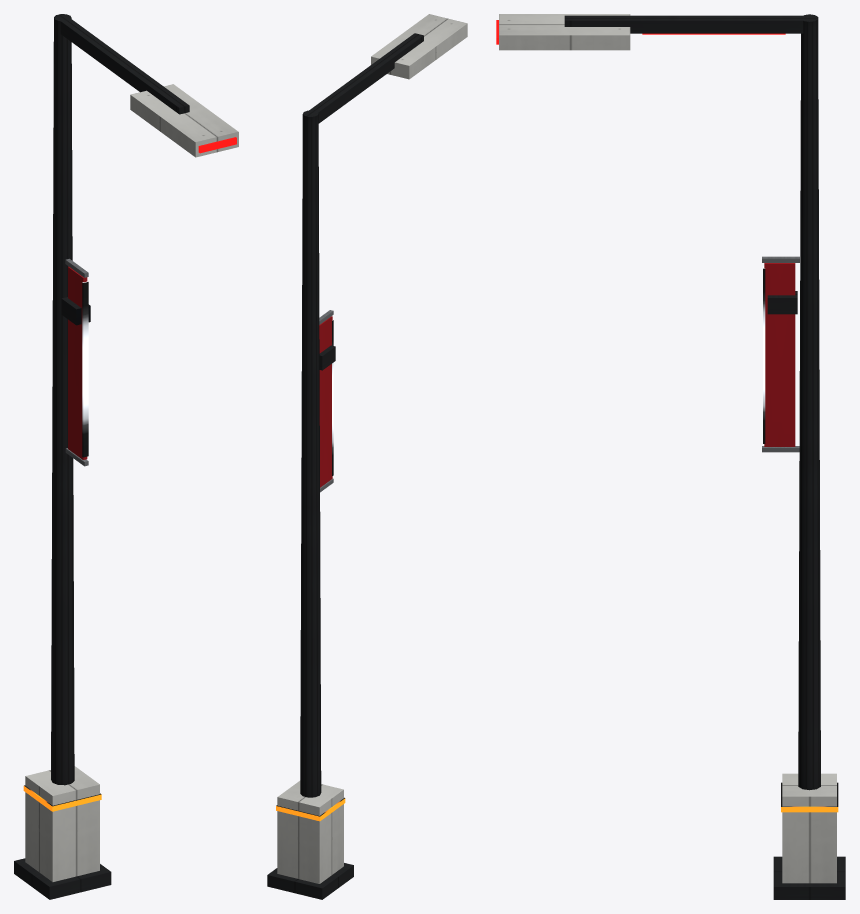
Rendered from SM_INFD_StreetLamp.fbx.
The picture shows the model from 3 angles, left to right: view 1: azimuth 30°, elevation 25°; view 2: azimuth 150°, elevation 25°; view 3: azimuth 270°, elevation 25°; orthographic projection. The views are drawn at different scales.
Parts seen in each view (by area): view 1: SM_INFD_StreetLamp_LOD0; view 2: SM_INFD_StreetLamp_LOD0; view 3: SM_INFD_StreetLamp_LOD0.
Part boxes in pixels (<box>): SM_INFD_StreetLamp_LOD0: <box>14,14,238,899</box>; SM_INFD_StreetLamp_LOD0: <box>267,14,467,899</box>; SM_INFD_StreetLamp_LOD0: <box>496,14,845,899</box>.
Size of what is drawn, in the model's own units: 0.6 by 8 by 2.92.
